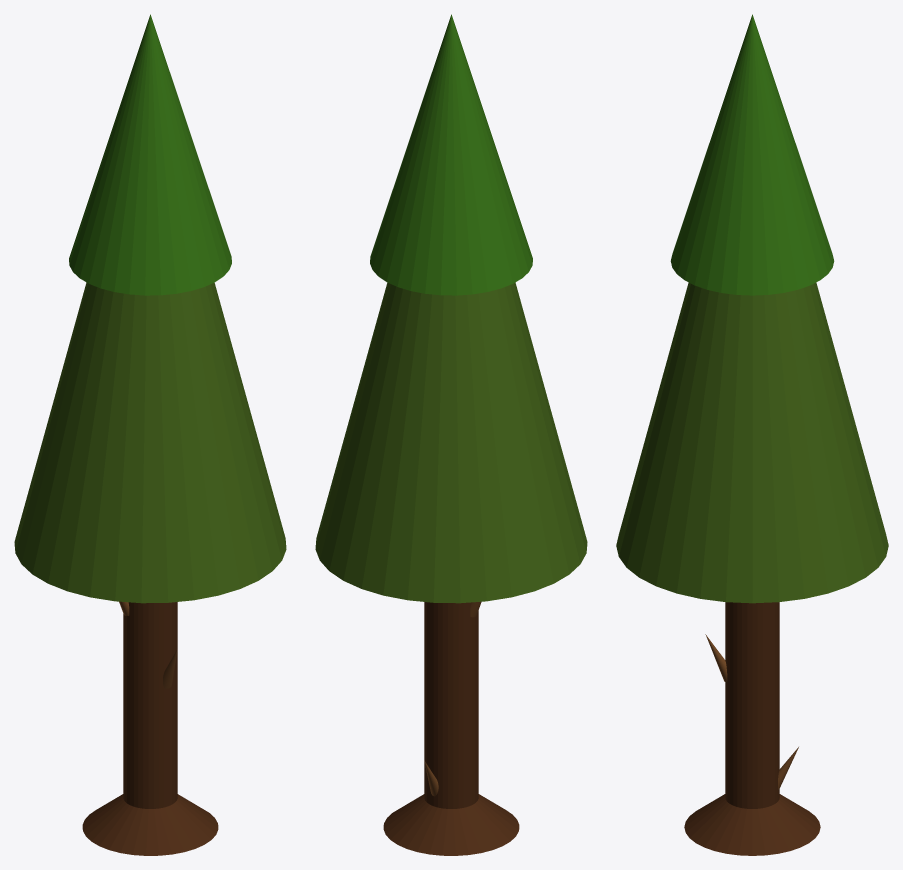
The model's file is elka.fbx.
The picture shows the model from 3 angles, left to right: view 1: azimuth 30°, elevation 25°; view 2: azimuth 150°, elevation 25°; view 3: azimuth 270°, elevation 25°; orthographic projection.
Visible parts, largest first — view 1: Cone.004, Cone.005, Cylinder, Cone.003; view 2: Cone.004, Cone.005, Cylinder, Cone.003; view 3: Cone.004, Cone.005, Cylinder, Cone.003.
Part boxes in pixels (bbox=[...]): Cone.004: bbox=[14, 282, 286, 603]; Cone.005: bbox=[69, 14, 231, 295]; Cylinder: bbox=[123, 602, 177, 808]; Cone.003: bbox=[82, 794, 218, 855]; Cone.004: bbox=[315, 282, 587, 603]; Cone.005: bbox=[370, 14, 532, 295]; Cylinder: bbox=[424, 602, 478, 808]; Cone.003: bbox=[383, 794, 519, 855]; Cone.004: bbox=[616, 282, 888, 603]; Cone.005: bbox=[670, 14, 834, 295]; Cylinder: bbox=[725, 602, 779, 808]; Cone.003: bbox=[684, 794, 820, 855].
Size of the model in its own units: 100 by 329 by 100.
